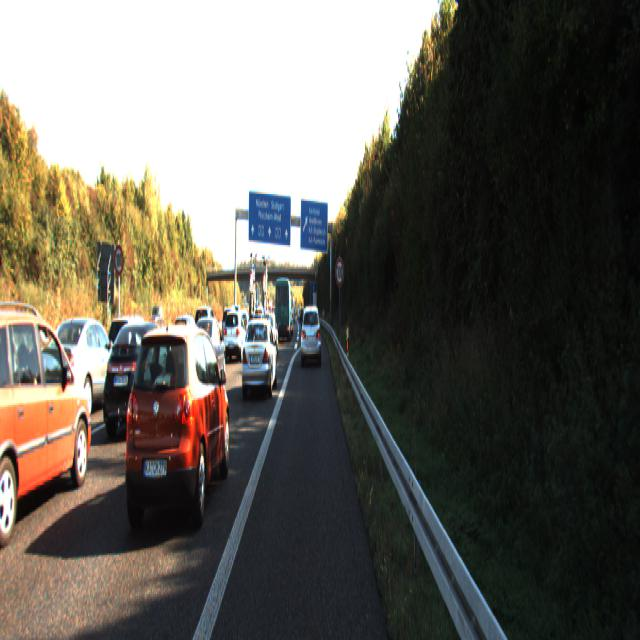Car: (120, 319, 232, 542), (0, 301, 96, 550), (100, 316, 180, 440), (42, 313, 124, 427), (240, 314, 278, 397), (188, 314, 226, 386), (222, 308, 248, 361), (300, 302, 321, 365), (275, 275, 291, 339)
